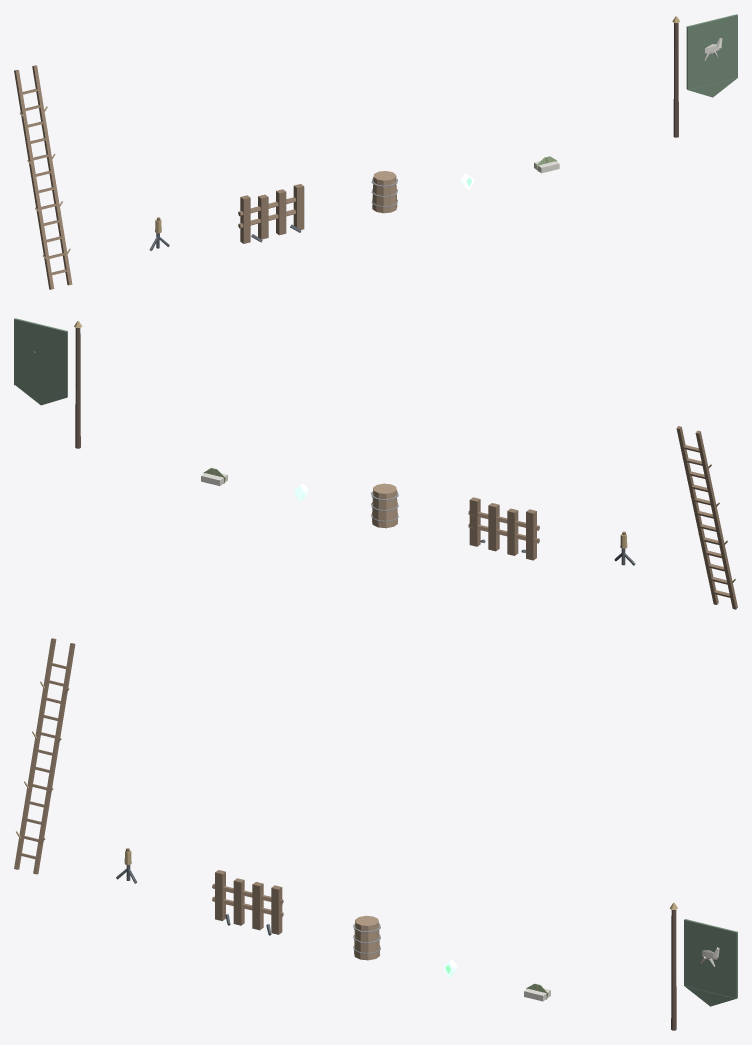
File: objetos.glb
The picture shows the model from 3 angles, top to bottom: view 1: azimuth 30°, elevation 25°; view 2: azimuth 150°, elevation 25°; view 3: azimuth 330°, elevation 25°; orthographic projection. The views are drawn at different scales.
Parts seen in each view (by area): view 1: estandarte_rohan, escala_mesh, barricada, barril; view 2: estandarte_rohan, escala_mesh, barricada, barril; view 3: estandarte_rohan, escala_mesh, barricada, barril.
Boxes of the visible parts, x1=… form: estandarte_rohan: x1=672, y1=14, x2=737, y2=137; escala_mesh: x1=14, y1=65, x2=72, y2=289; barricada: x1=238, y1=184, x2=304, y2=243; barril: x1=371, y1=171, x2=397, y2=213; estandarte_rohan: x1=14, y1=318, x2=82, y2=448; escala_mesh: x1=676, y1=426, x2=737, y2=609; barricada: x1=468, y1=497, x2=539, y2=560; barril: x1=371, y1=483, x2=398, y2=528; estandarte_rohan: x1=669, y1=902, x2=737, y2=1030; escala_mesh: x1=14, y1=638, x2=75, y2=874; barricada: x1=212, y1=870, x2=283, y2=935; barril: x1=353, y1=915, x2=380, y2=960.
Bounding box in the file's own units: 21.31 × 5.73 × 2.29.
